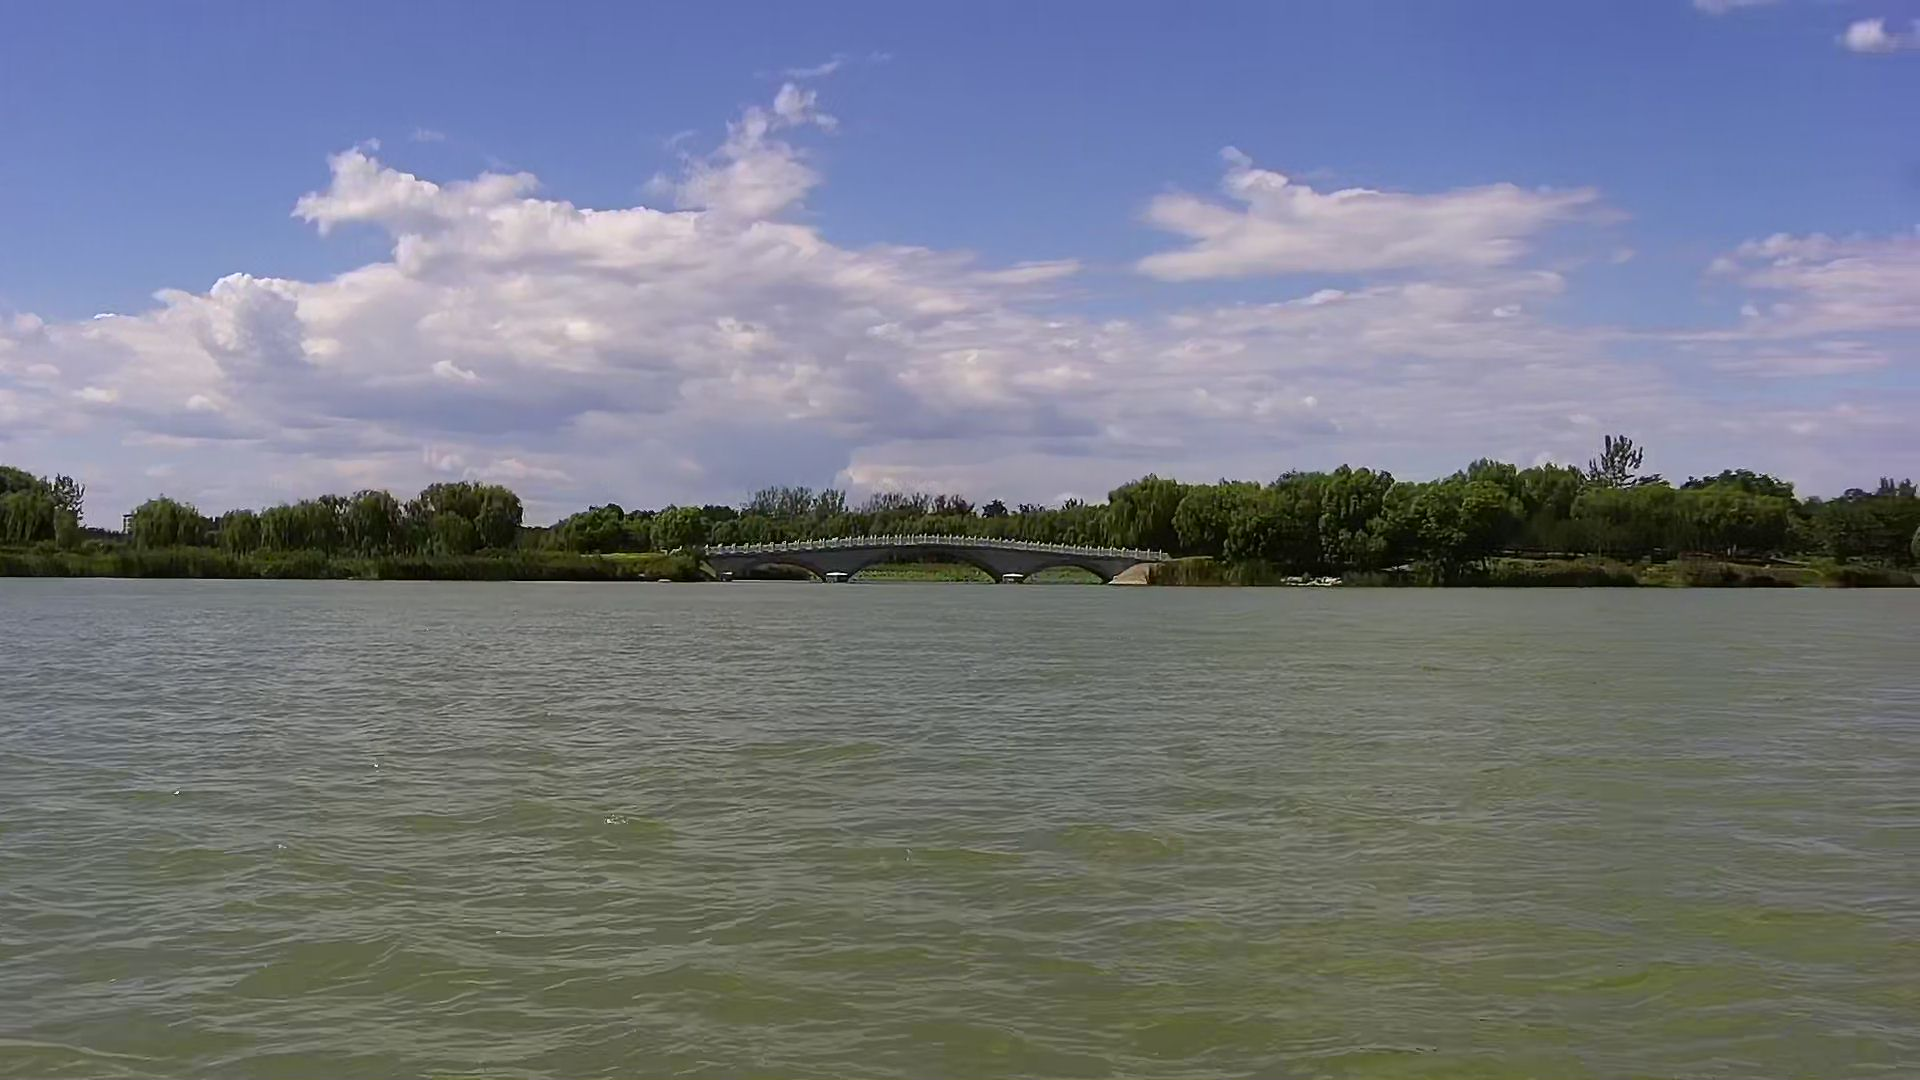bridge: (698, 524, 1153, 585)
